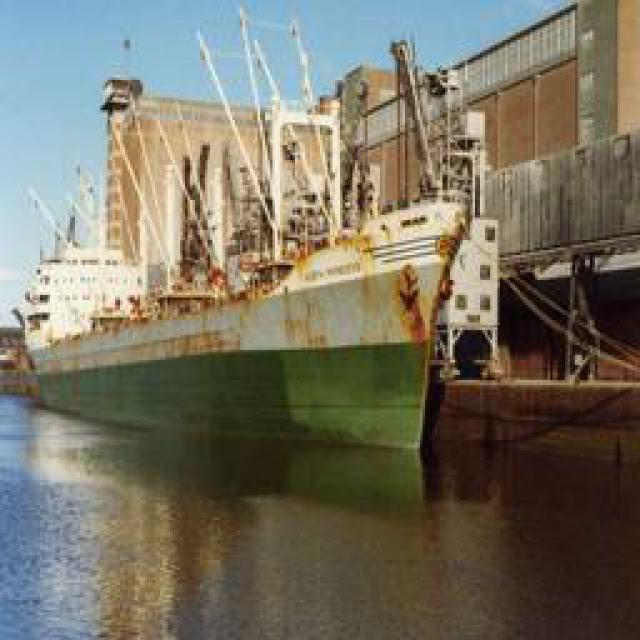Ship: (17, 12, 500, 442)
